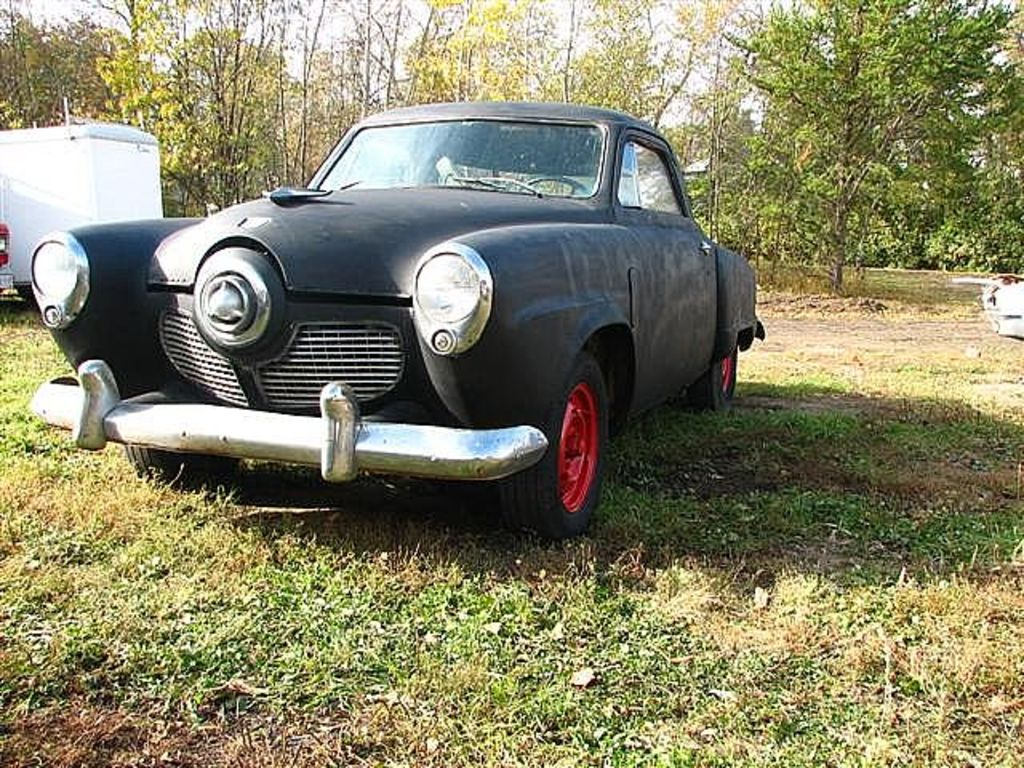Wheel: (528, 360, 616, 522), (125, 446, 245, 488), (683, 342, 739, 413), (518, 174, 592, 190)
